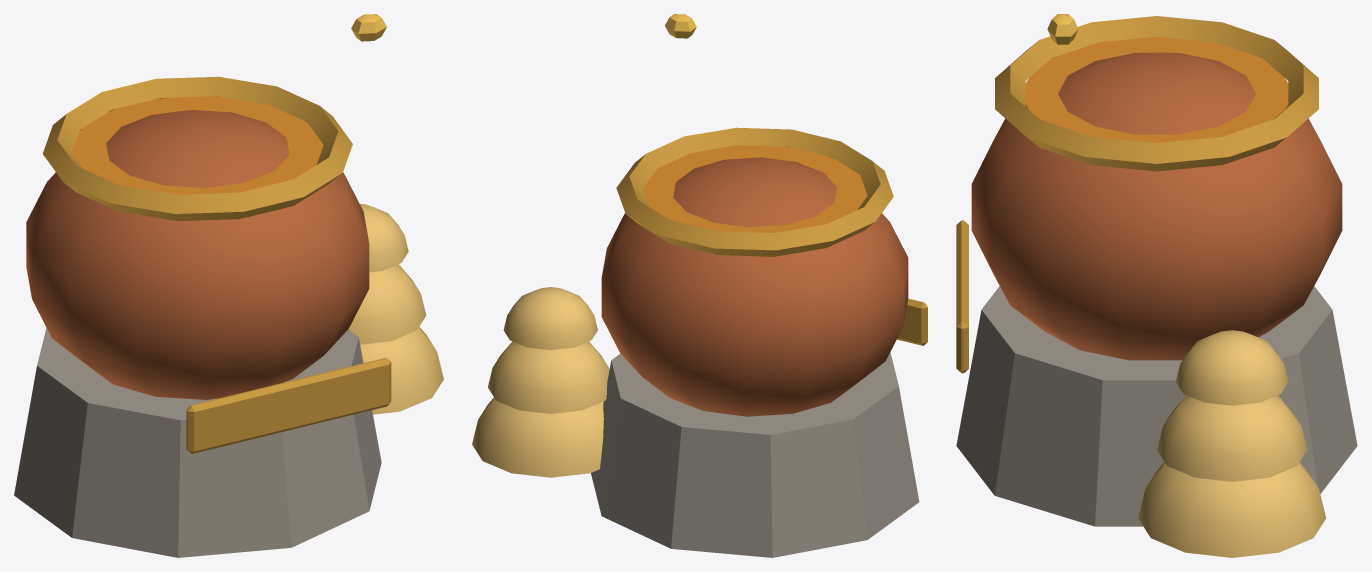
The model's file is PR_Station_Bal_T2.fbx.
3 renders of one model, left to right at view 1: azimuth 30°, elevation 25°; view 2: azimuth 150°, elevation 25°; view 3: azimuth 270°, elevation 25°, orthographic. The views are drawn at different scales.
Parts seen in each view (by area): view 1: PR_Station_Bal_T2; view 2: PR_Station_Bal_T2; view 3: PR_Station_Bal_T2.
Part boxes in pixels (x1,y1,x2,y2): PR_Station_Bal_T2: [14, 14, 443, 557]; PR_Station_Bal_T2: [472, 14, 927, 557]; PR_Station_Bal_T2: [956, 14, 1357, 557].
Bounding box in the file's own units: 0.8343 × 0.875 × 0.64.
Materials: 1 (1 with a texture image).
